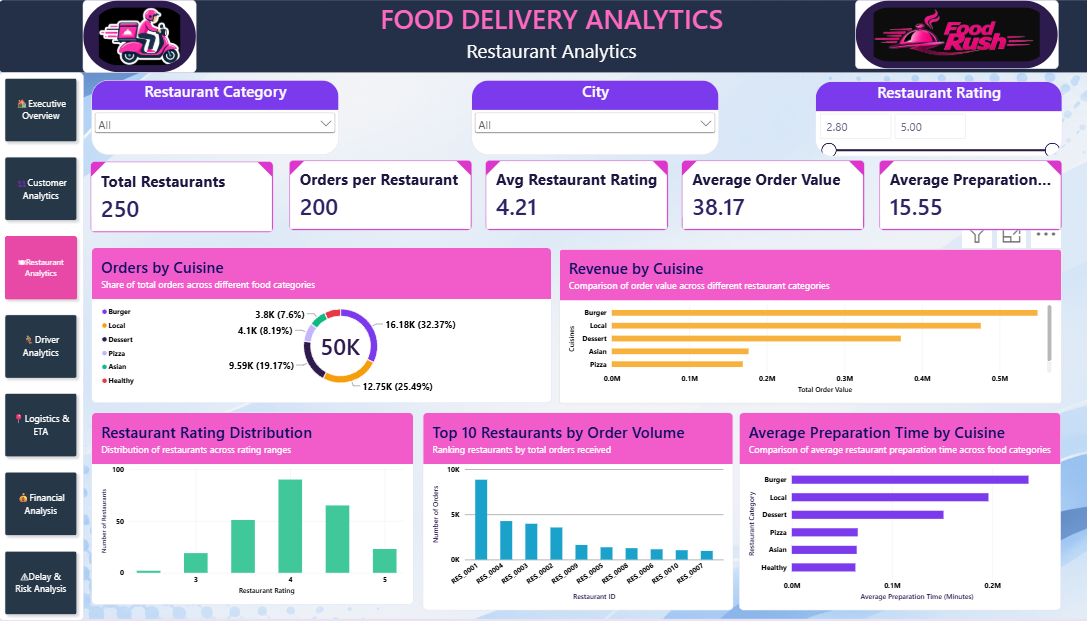

What the dashboard file says about the page in this screenshot:
{"tool":"powerbi","page":{"name":"🍽Restaurant Analytics","canvas":[1920,1080],"ordinal":2},"visuals":[{"type":"donutChart","title":"Orders by Cuisine","fields":{"Category":["food_delivery_clean.restaurant_primary_category"],"Y":["CountNonNull(food_delivery_clean.order_id)"]},"box":[160,430,800,270],"z":0},{"type":"clusteredBarChart","title":"Revenue by Cuisine","fields":{"Category":["food_delivery_clean.restaurant_primary_category"],"Y":["Sum(food_delivery_clean.order_total)"]},"box":[974,432,874,270],"z":1000},{"type":"clusteredColumnChart","title":"Restaurant Rating Distribution","fields":{"Category":["food_delivery_clean.restaurant_rating (bins)"],"Y":["Count(food_delivery_clean.restaurant_id)"]},"box":[160,718,560,334],"z":2000},{"type":"clusteredBarChart","title":"Average Preparation Time by Cuisine","fields":{"Category":["food_delivery_clean.restaurant_primary_category"],"Y":["Sum(food_delivery_clean.restaurant_preparation_time_minutes)"]},"box":[1288,718,560,344],"z":3000},{"type":"clusteredColumnChart","title":"Top 10 Restaurants by Order Volume","fields":{"Category":["food_delivery_clean.restaurant_id"],"Y":["CountNonNull(food_delivery_clean.order_id)"]},"box":[736,718,540,344],"z":4000},{"type":"cardVisual","fields":{"Data":["food_delivery_clean.Total Restaurants"]},"box":[159.3,279.6,318,124.1],"z":8000},{"type":"cardVisual","fields":{"Data":["food_delivery_clean.Orders per Restaurant"]},"box":[505,279,318.5,122.2],"z":9000},{"type":"cardVisual","fields":{"Data":["Avg(food_delivery_clean.restaurant_rating)"]},"box":[846,279,318,122.2],"z":10000},{"type":"cardVisual","fields":{"Data":["food_delivery_clean.Average Preparation Time"]},"box":[1529.6,279,318.5,122.2],"z":11000},{"type":"cardVisual","fields":{"Data":["food_delivery_clean.Average Order Value"]},"box":[1187,279,318,122.2],"z":12000},{"type":"slicer","title":"Restaurant Category","fields":{"Values":["food_delivery_clean.restaurant_primary_category"]},"box":[160,140,430,130],"z":13000},{"type":"slicer","title":"City","fields":{"Values":["food_delivery_clean.city"]},"box":[822.2,140,430,130],"z":14000},{"type":"slicer","title":"Restaurant Rating","fields":{"Values":["food_delivery_clean.restaurant_rating"]},"box":[1418.5,140.7,429.6,130],"z":15000},{"type":"textbox","title":"FOOD DELIVERY ANALYTICS","box":[0,0,1920.4,126.5],"z":24001},{"type":"pageNavigator","box":[0,126.5,146.9,953.1],"z":24002},{"type":"image","box":[146.7,0,197.8,126.7],"z":24003},{"type":"image","box":[1488.9,0,353.3,120],"z":24004}]}

Visuals, with their boxes on the page's 1920x1080 design canvas (x1, y1, x2, y2). These are canvas units, not pixel positions in the 1087x621 screenshot, which may show the page scaled, cropped or inside an application window:
"Orders by Cuisine" donutChart: pyautogui.locateOnScreen(160, 430, 960, 700)
"Revenue by Cuisine" clusteredBarChart: pyautogui.locateOnScreen(974, 432, 1848, 702)
"Restaurant Rating Distribution" clusteredColumnChart: pyautogui.locateOnScreen(160, 718, 720, 1052)
"Average Preparation Time by Cuisine" clusteredBarChart: pyautogui.locateOnScreen(1288, 718, 1848, 1062)
"Top 10 Restaurants by Order Volume" clusteredColumnChart: pyautogui.locateOnScreen(736, 718, 1276, 1062)
cardVisual - food_delivery_clean.Total Restaurants: pyautogui.locateOnScreen(159, 280, 477, 404)
cardVisual - food_delivery_clean.Orders per Restaurant: pyautogui.locateOnScreen(505, 279, 824, 401)
cardVisual - Avg(food_delivery_clean.restaurant_rating): pyautogui.locateOnScreen(846, 279, 1164, 401)
cardVisual - food_delivery_clean.Average Preparation Time: pyautogui.locateOnScreen(1530, 279, 1848, 401)
cardVisual - food_delivery_clean.Average Order Value: pyautogui.locateOnScreen(1187, 279, 1505, 401)
"Restaurant Category" slicer: pyautogui.locateOnScreen(160, 140, 590, 270)
"City" slicer: pyautogui.locateOnScreen(822, 140, 1252, 270)
"Restaurant Rating" slicer: pyautogui.locateOnScreen(1418, 141, 1848, 271)
"FOOD DELIVERY ANALYTICS" textbox: pyautogui.locateOnScreen(0, 0, 1920, 126)
pageNavigator: pyautogui.locateOnScreen(0, 126, 147, 1080)
image: pyautogui.locateOnScreen(147, 0, 344, 127)
image: pyautogui.locateOnScreen(1489, 0, 1842, 120)
